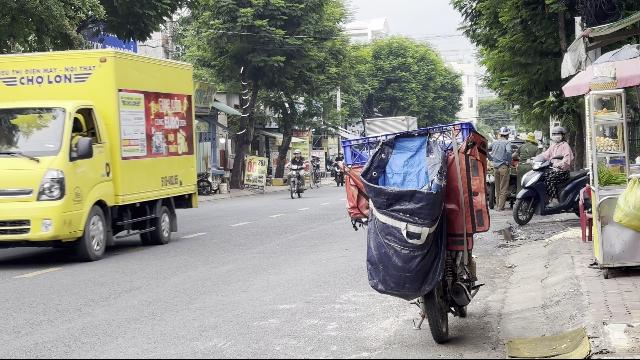helmet: (550, 126, 564, 142)
motorcyclist: (515, 124, 585, 224)
